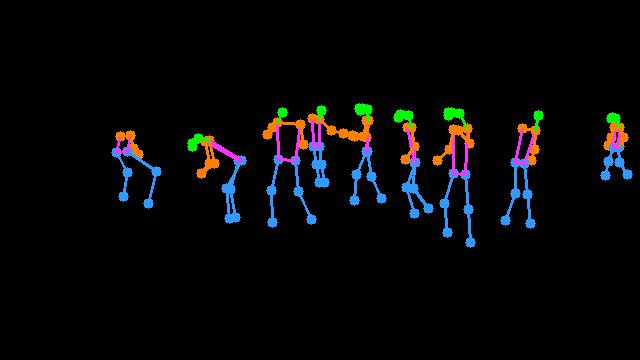normal: (173, 119, 255, 236), (496, 101, 565, 239), (261, 99, 318, 234), (390, 104, 437, 227), (588, 104, 640, 190)
